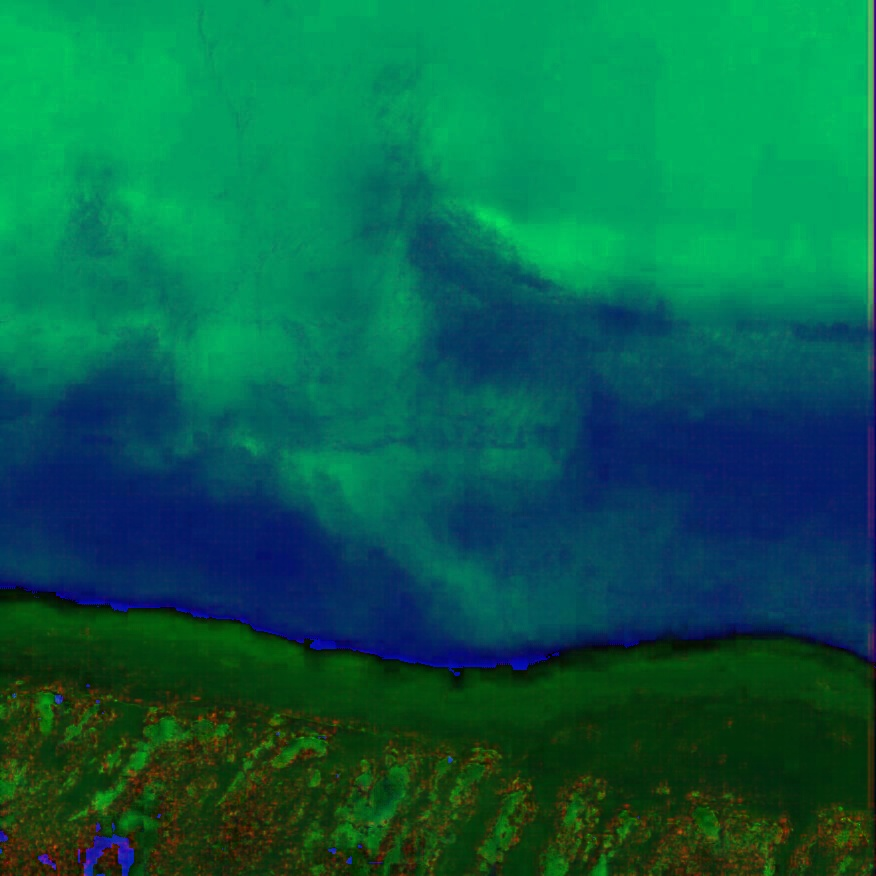rip_current: (122, 133, 580, 622)
